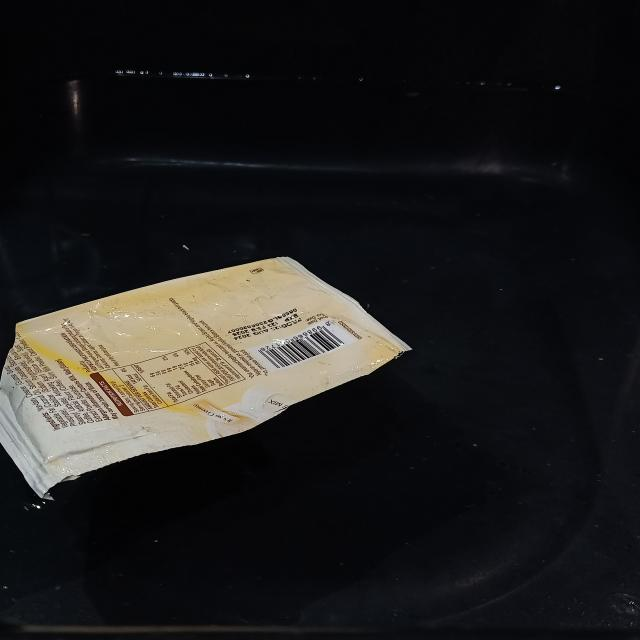Plastic Wrapper: (0, 257, 410, 495)
